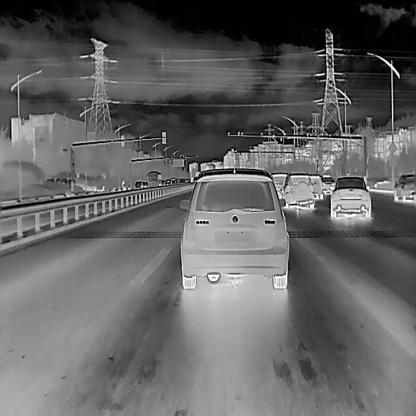bus: (146, 169, 161, 187)
car: (179, 167, 289, 289), (328, 176, 371, 218), (282, 172, 314, 207), (392, 173, 416, 202), (269, 172, 291, 198), (308, 174, 323, 199), (319, 174, 335, 195), (133, 180, 143, 188), (178, 177, 186, 185), (164, 178, 172, 185), (170, 176, 178, 183), (142, 181, 146, 189), (185, 177, 190, 183), (162, 179, 164, 185)
